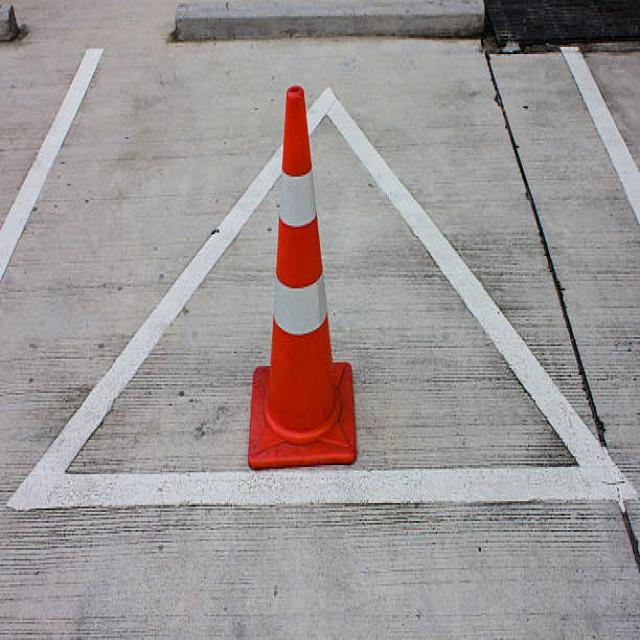Traffic Cone: (231, 60, 372, 492)
